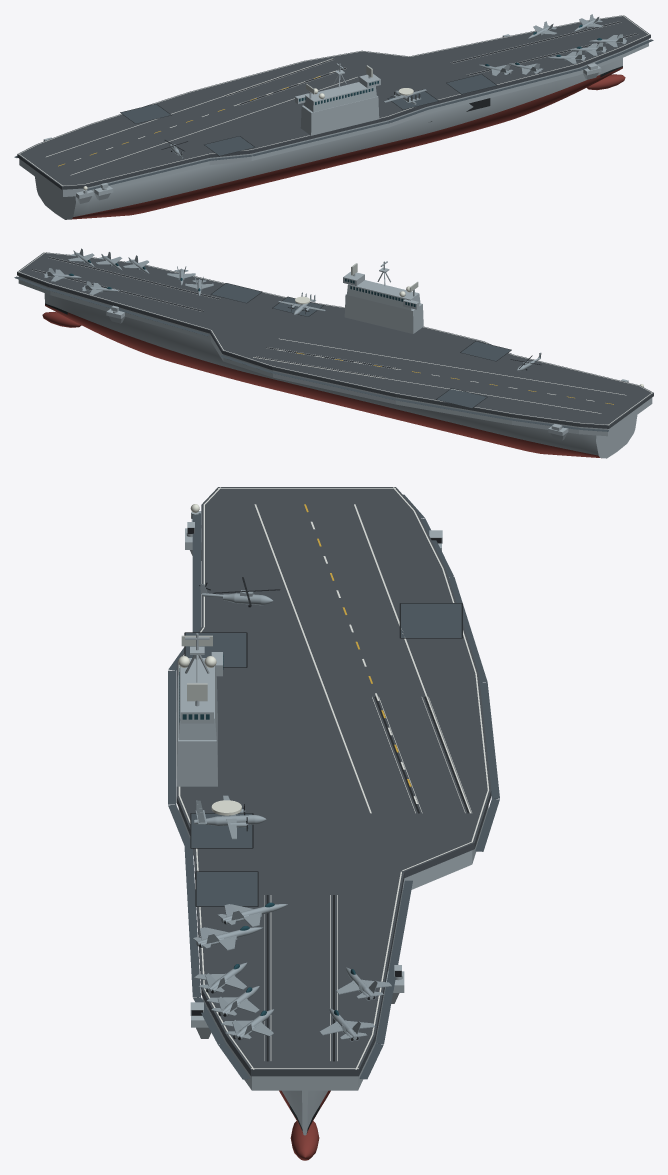
File: usn_cvn_nimitz.glb
3 views of the same model, one above another, from view 1: azimuth 30°, elevation 25°; view 2: azimuth 150°, elevation 25°; view 3: azimuth 270°, elevation 25° (orthographic). The views are drawn at different scales.
Parts seen in each view (by area): view 1: flight_deck, naval_paint, antifouling, deck_non_skid, marking_white, airframe, rubber; view 2: flight_deck, naval_paint, antifouling, deck_non_skid, marking_white, airframe, rubber; view 3: flight_deck, deck_non_skid, naval_paint, airframe, marking_white, rubber, antifouling.
Boxes of the visible parts, <box> form: flight_deck: <box>17,15,650,189</box>; naval_paint: <box>19,34,648,219</box>; antifouling: <box>71,67,625,219</box>; deck_non_skid: <box>14,39,653,190</box>; marking_white: <box>18,15,649,185</box>; airframe: <box>169,14,626,158</box>; rubber: <box>120,21,637,156</box>; flight_deck: <box>17,252,653,428</box>; naval_paint: <box>18,261,652,458</box>; antifouling: <box>42,304,601,458</box>; deck_non_skid: <box>14,276,608,431</box>; marking_white: <box>18,252,652,425</box>; airframe: <box>44,248,540,371</box>; rubber: <box>32,257,541,408</box>; flight_deck: <box>176,487,491,1076</box>; deck_non_skid: <box>168,494,499,1079</box>; naval_paint: <box>176,511,488,1135</box>; airframe: <box>192,584,391,1041</box>; marking_white: <box>178,487,488,1069</box>; rubber: <box>184,528,469,1061</box>; antifouling: <box>279,1090,330,1160</box>.
Bounding box in the file's own units: 10 × 1.88 × 2.4.
